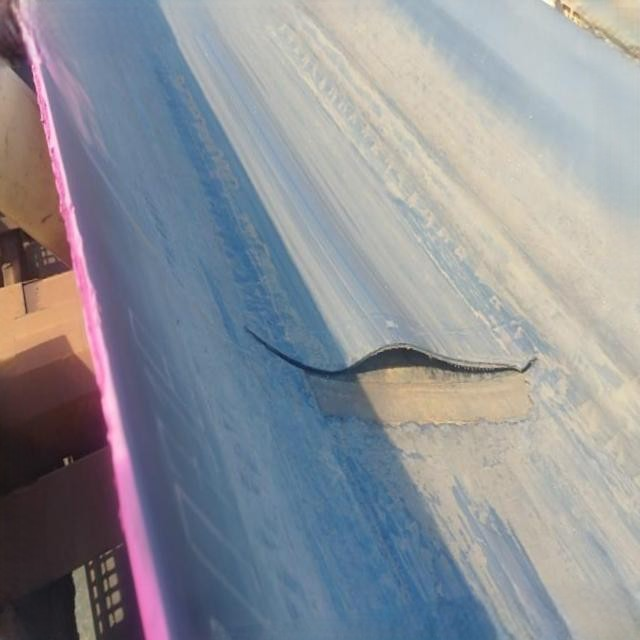Tear: (239, 320, 540, 386)
